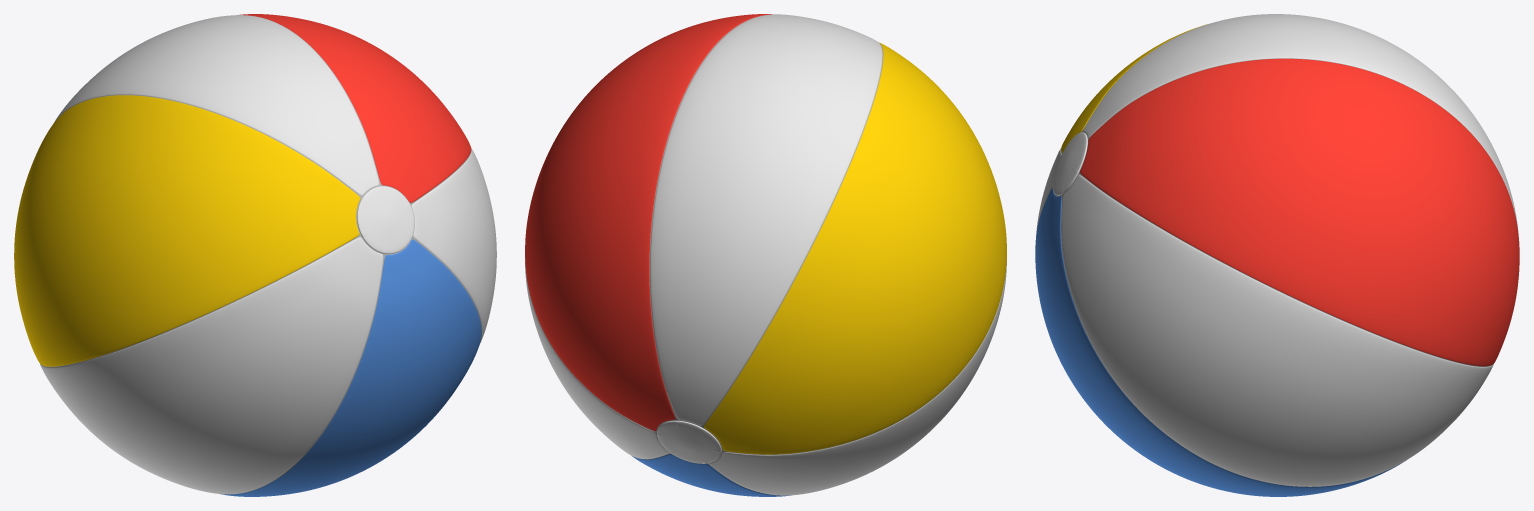
File: pallone.fbx
3 views of the same model, side by side, from view 1: azimuth 30°, elevation 25°; view 2: azimuth 150°, elevation 25°; view 3: azimuth 270°, elevation 25° (orthographic).
Parts seen in each view (by area): view 1: Ball; view 2: Ball; view 3: Ball.
Boxes of the visible parts, x1,y1,x2,y2 form: Ball: [14, 14, 496, 496]; Ball: [525, 14, 1006, 496]; Ball: [1035, 14, 1519, 496].
Bounding box in the file's own units: 39.49 × 39.54 × 39.67.
